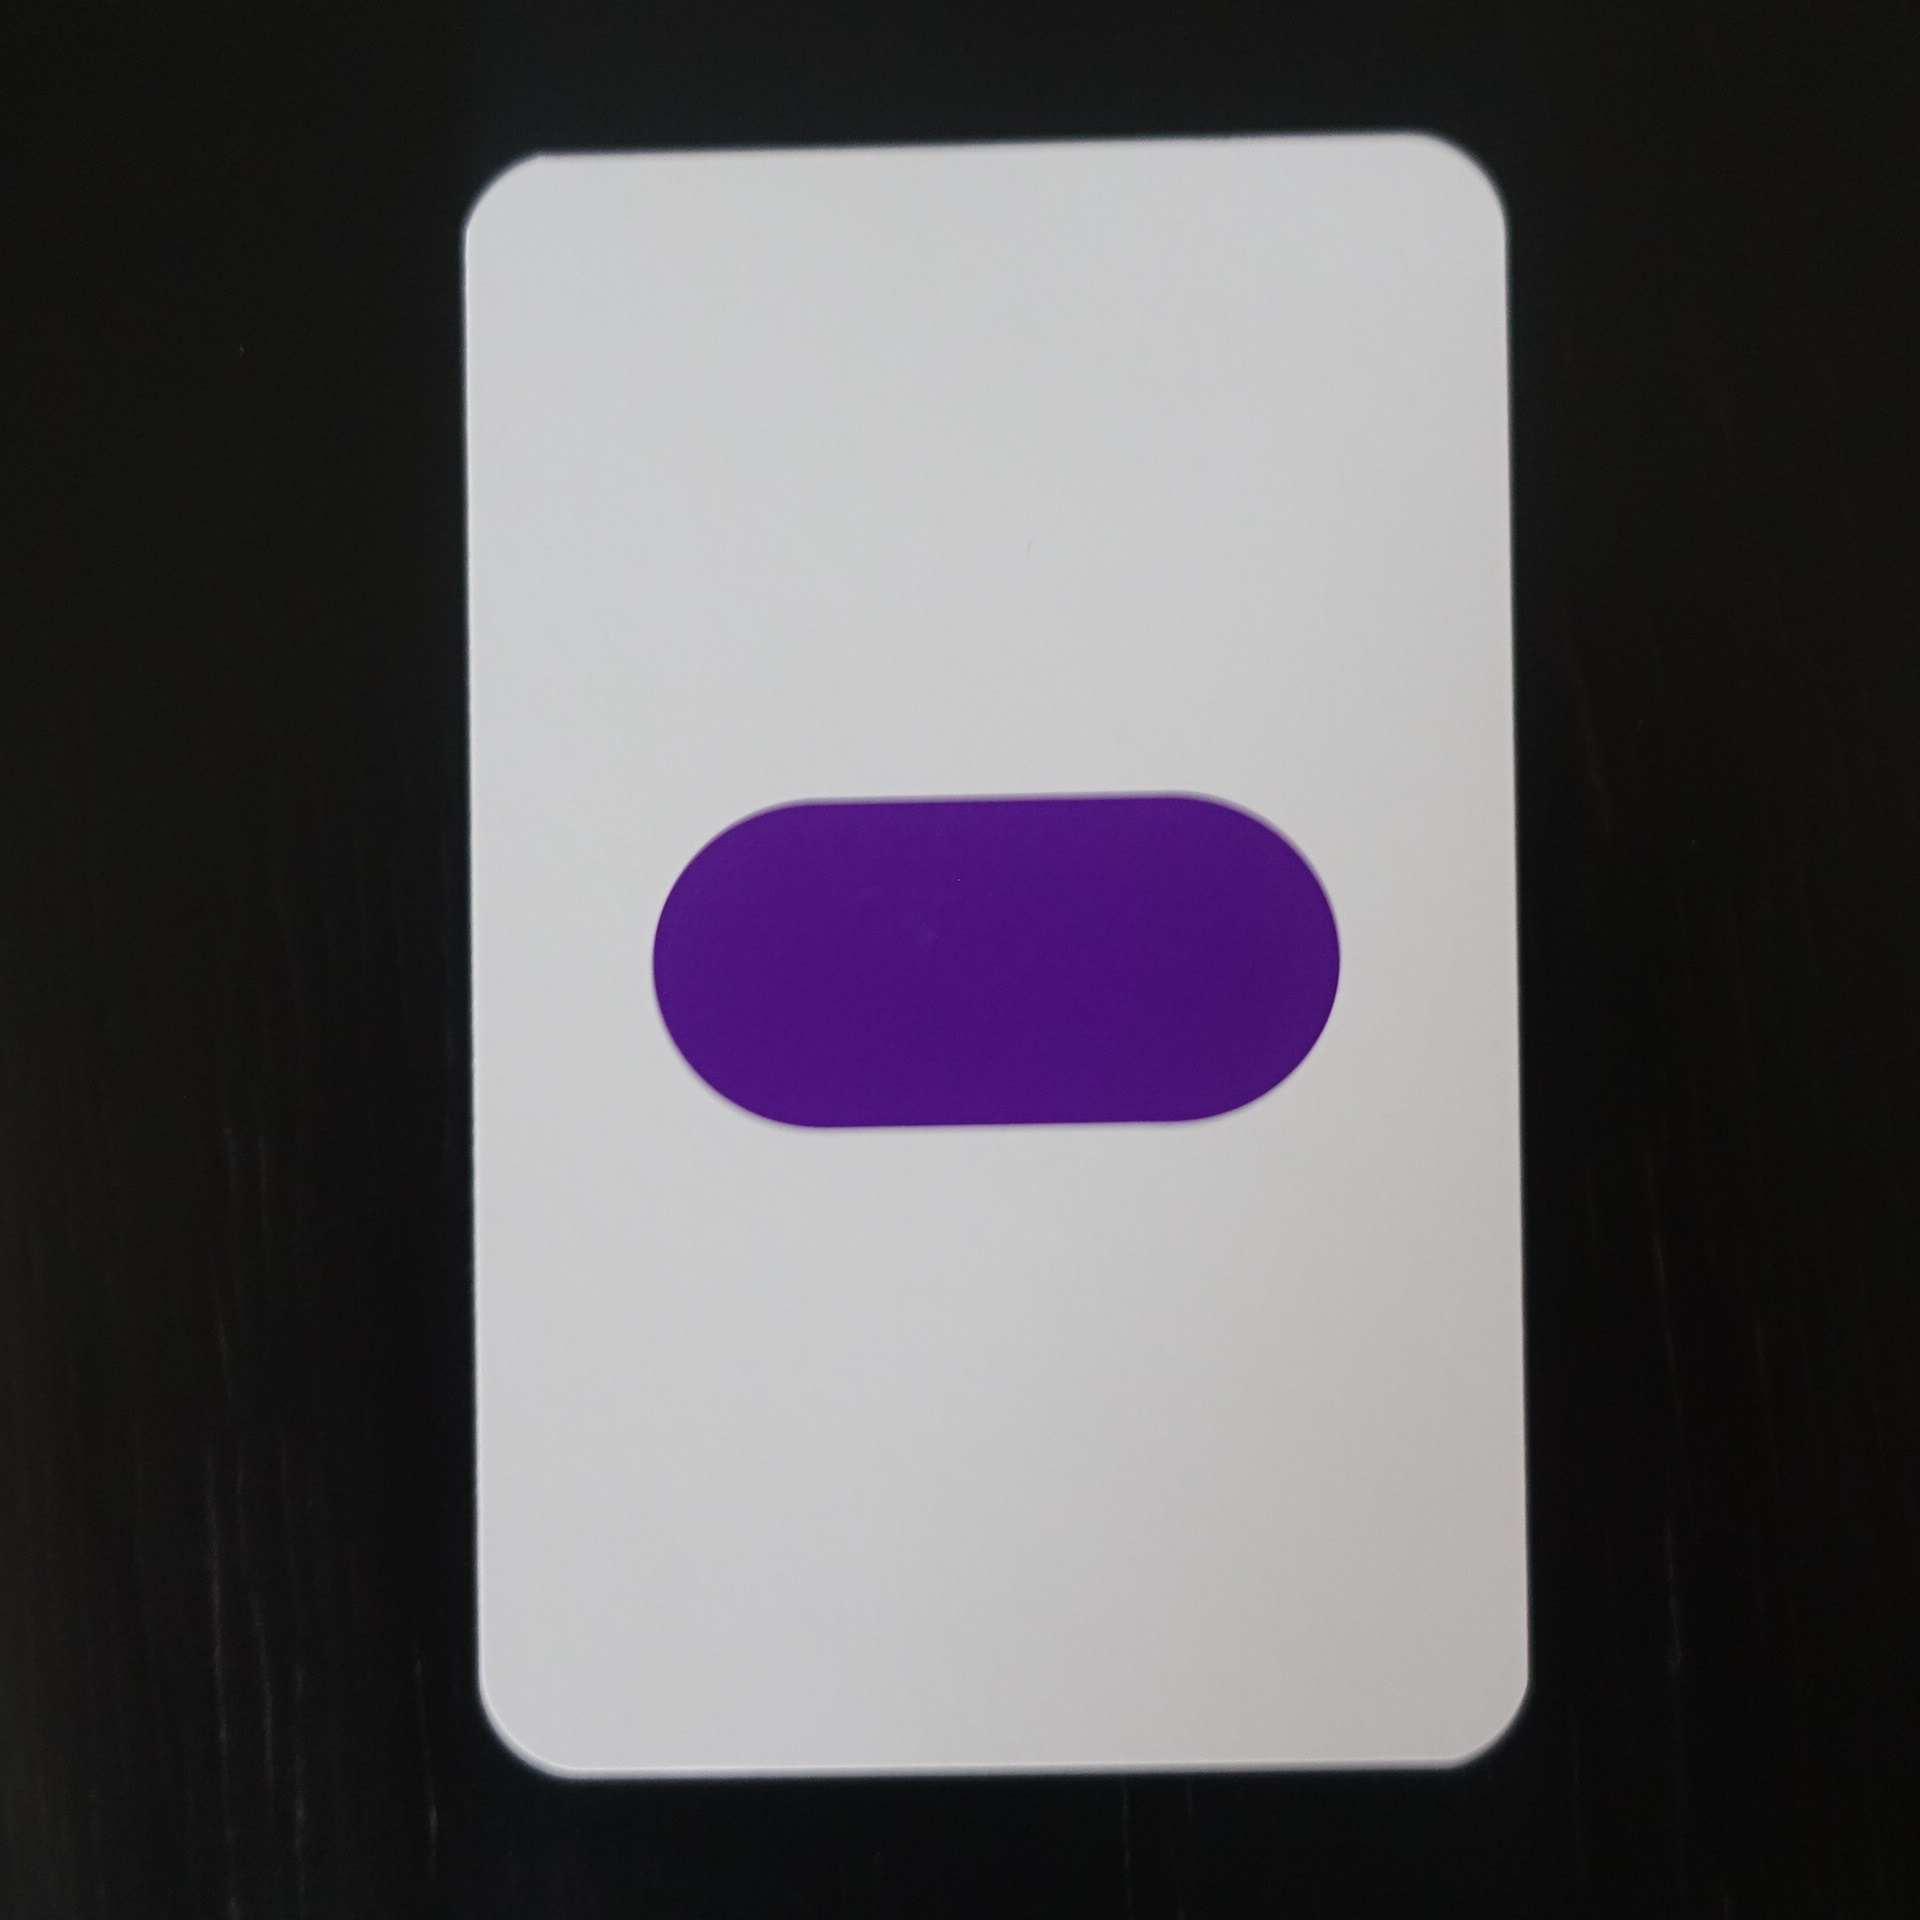c-2-f-d-r: (425, 114, 1558, 1804)
